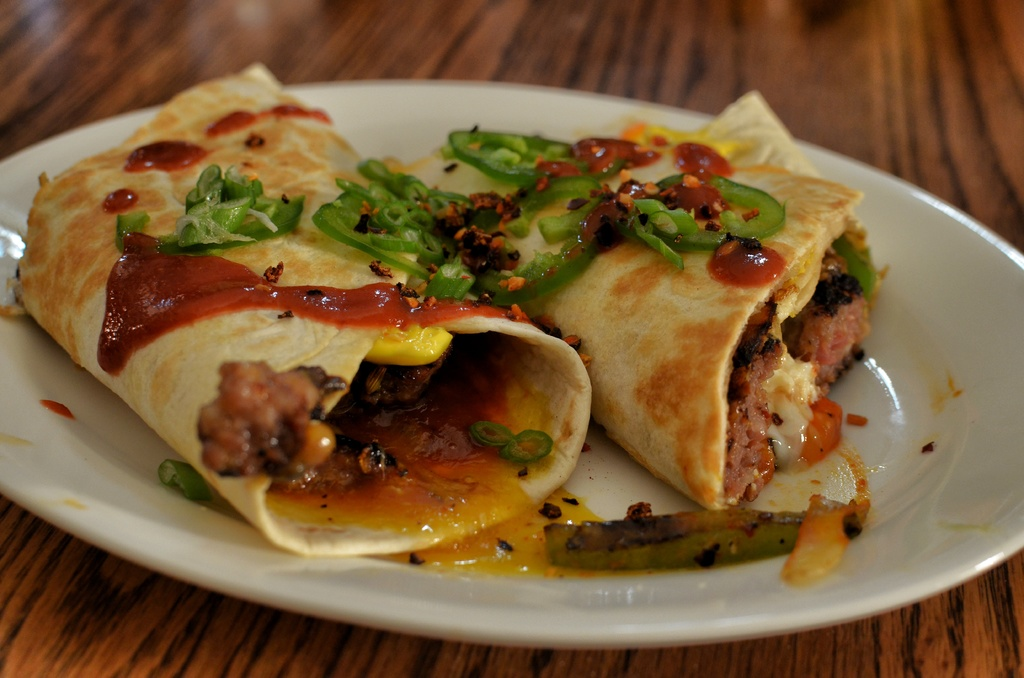taco: (25, 143, 621, 549), (479, 77, 964, 557)
